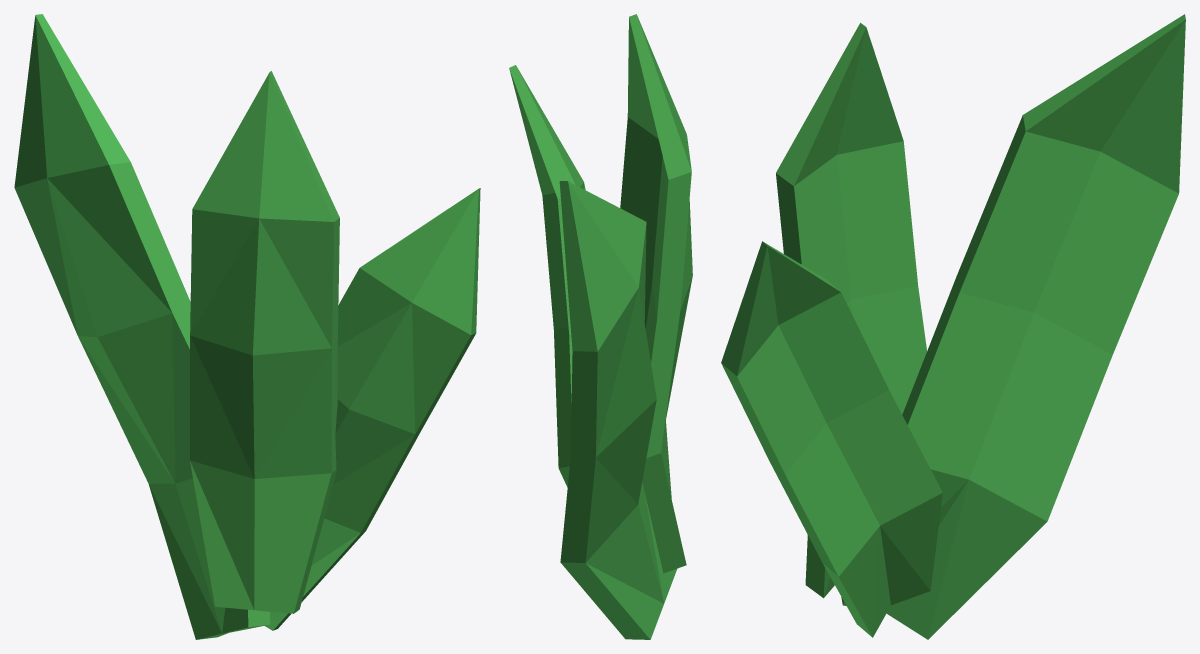
Rendered from seed.glb.
3 views of the same model, side by side, from view 1: azimuth 30°, elevation 25°; view 2: azimuth 150°, elevation 25°; view 3: azimuth 270°, elevation 25° (orthographic). The views are drawn at different scales.
Visible parts, largest first — view 1: group588801848; view 2: group588801848; view 3: group588801848.
Part boxes in pixels (bbox=[...]): group588801848: bbox=[14, 14, 480, 639]; group588801848: bbox=[509, 14, 692, 639]; group588801848: bbox=[721, 14, 1185, 639].
Size of the model in its own units: 0.0233 by 0.0463 by 0.031.
